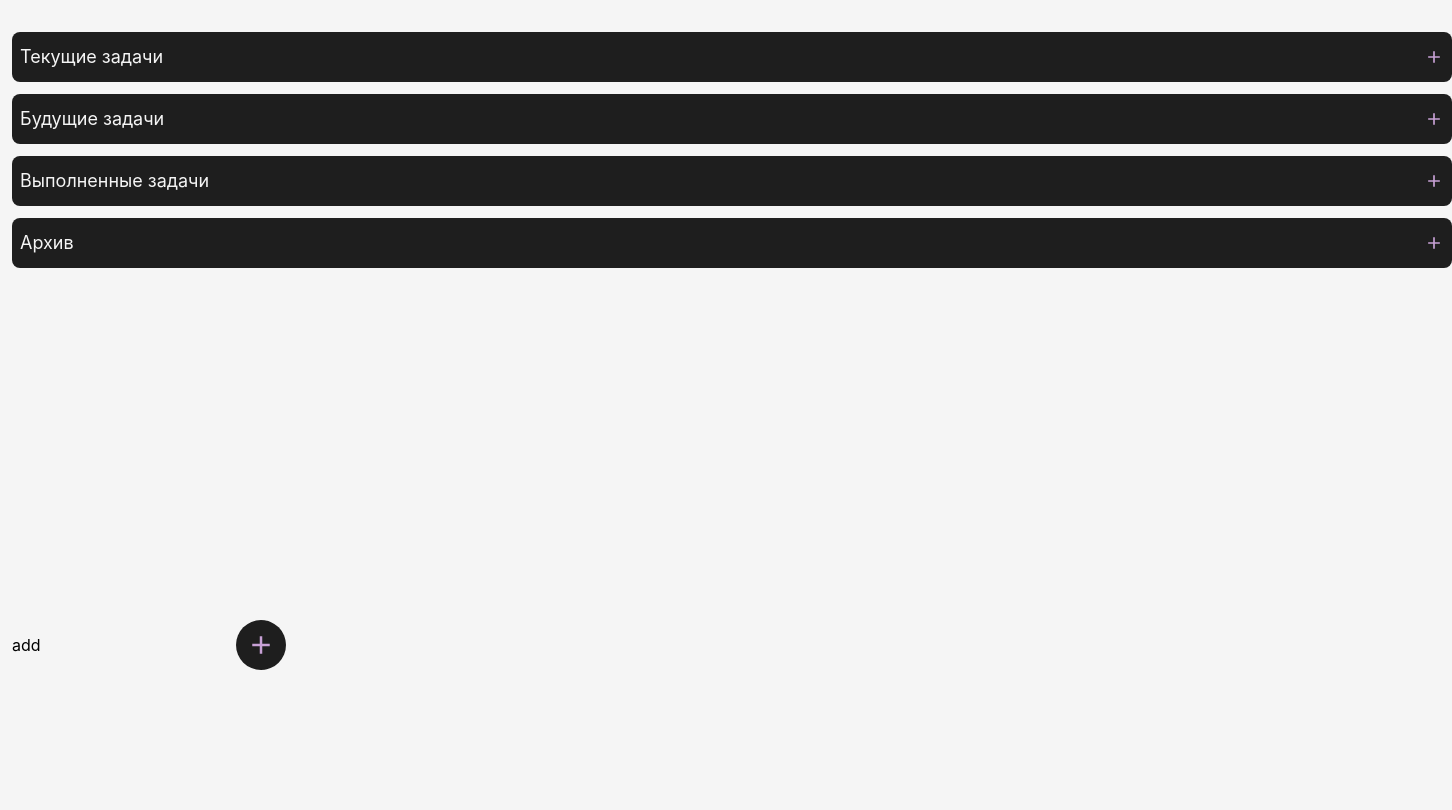
Add post button › click button
Expected: the text "Добавить" is not shown
What coordinates should you click on to do the following:
click the element with test id "AddPostBtn"
I would click on:
 (261, 645)
Its box is [236,620,286,670].
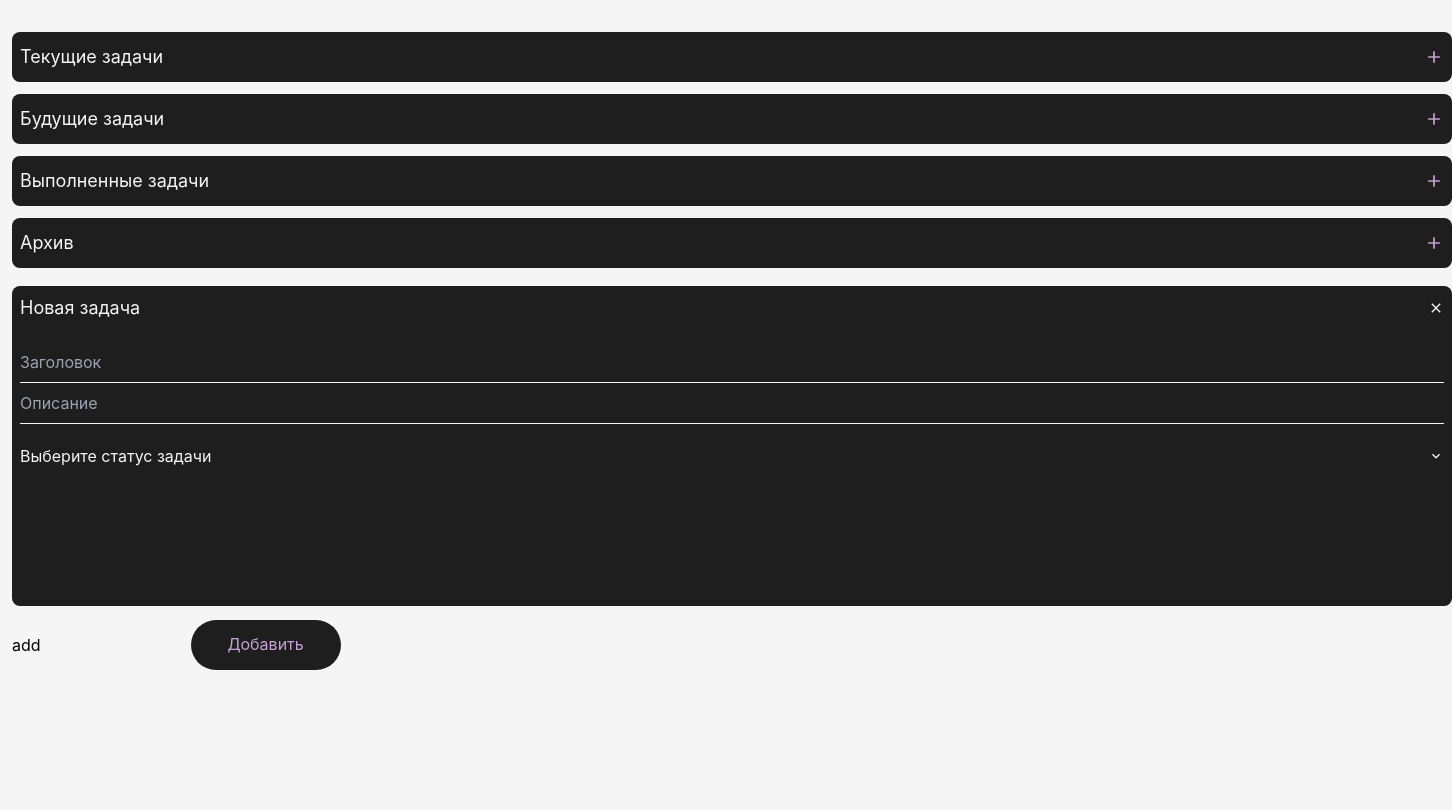
Expected: the text "Добавить" is shown, [191,620,341,670]
